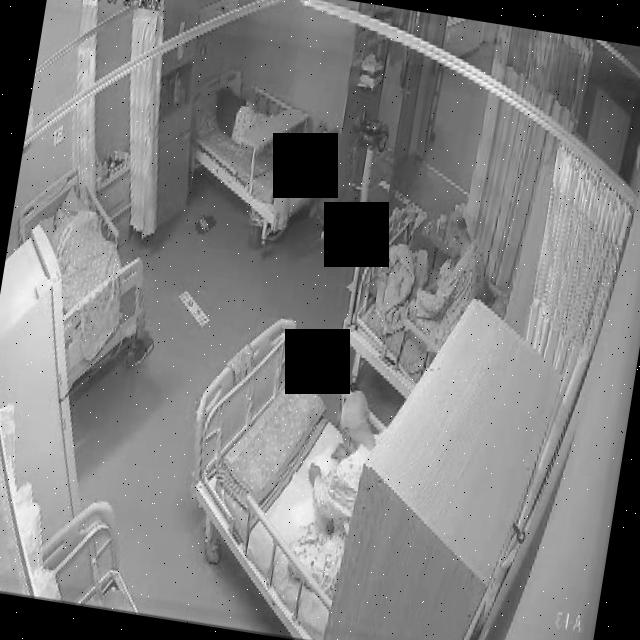bed: (164, 308, 385, 640), (0, 158, 166, 400), (334, 201, 488, 409), (182, 63, 346, 238)
lie: (209, 84, 303, 158)
patient: (289, 382, 395, 602), (361, 201, 488, 354), (209, 84, 303, 159)
sit: (290, 380, 398, 606), (361, 204, 489, 352)
